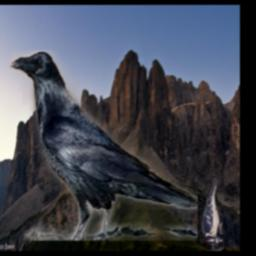Crow: (11, 50, 199, 241)
Woodpecker: (202, 178, 225, 245)
